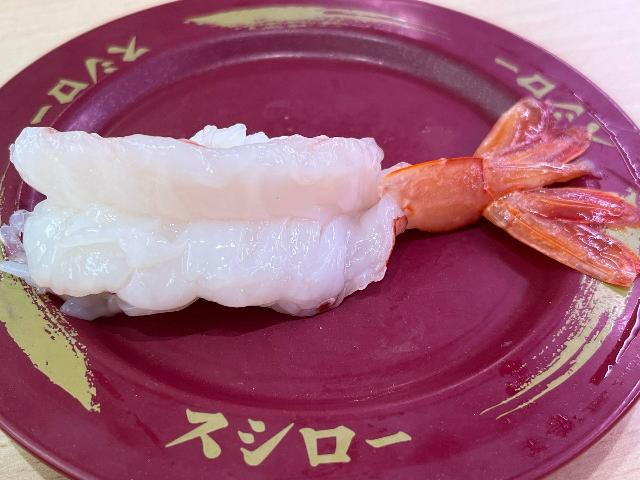janred: (23, 19, 619, 438)
